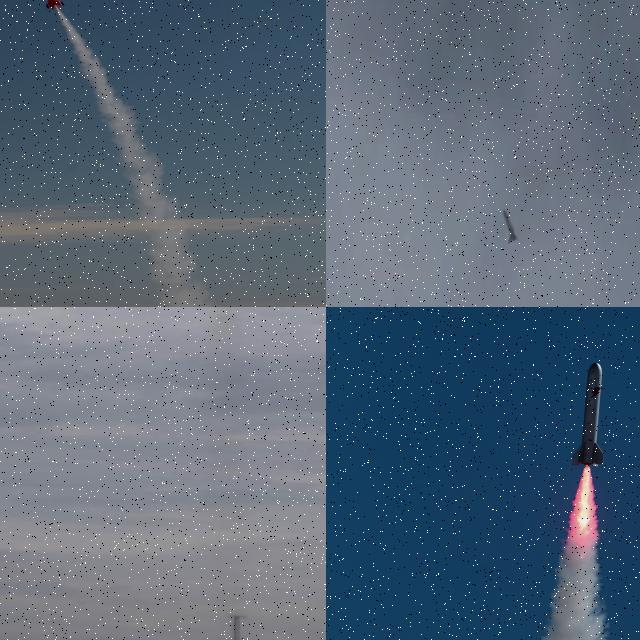Rocket: (568, 355, 608, 469), (504, 210, 518, 244)
